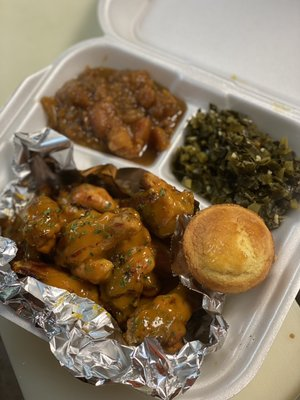curry: (166, 105, 300, 231)
sushi: (27, 40, 189, 173)
